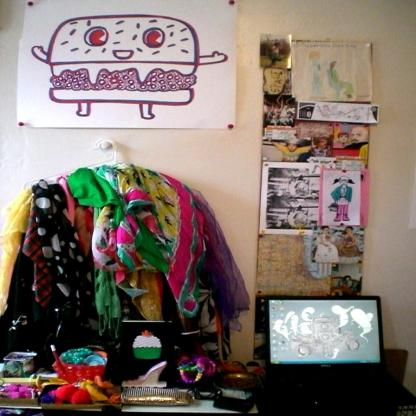board: (252, 292, 401, 403)
